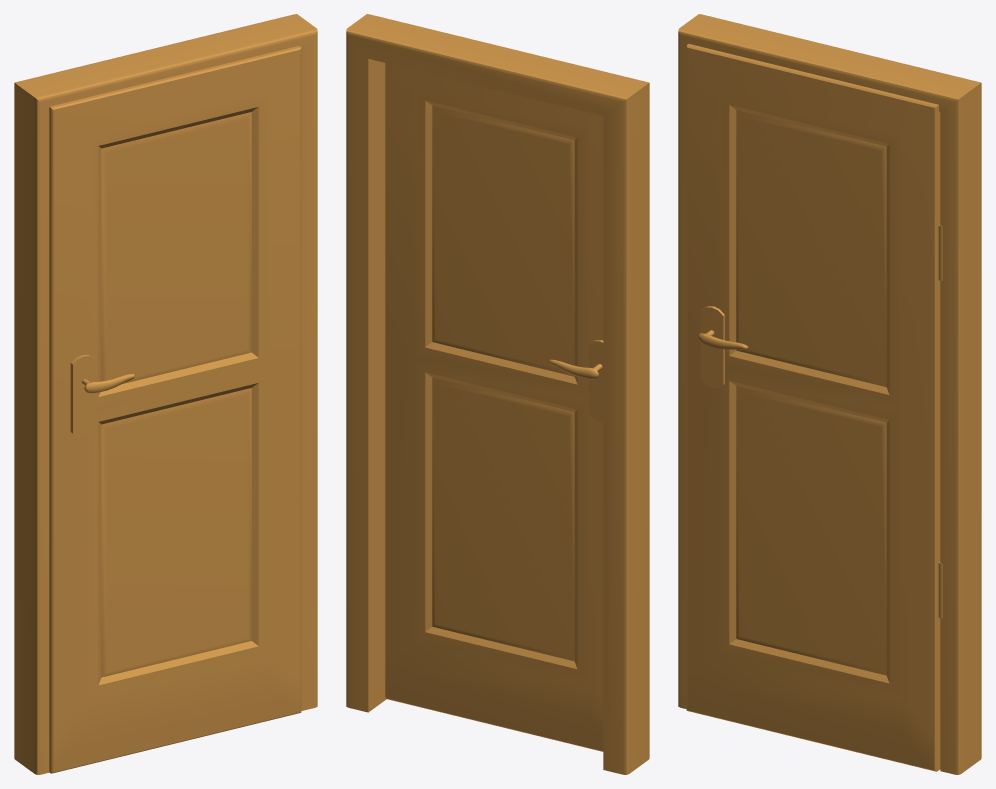
The model's file is Door_01.fbx.
3 renders of one model, left to right at view 1: azimuth 30°, elevation 25°; view 2: azimuth 150°, elevation 25°; view 3: azimuth 330°, elevation 25°, orthographic.
Parts seen in each view (by area): view 1: DoorWing, Door_01, DoorHandle; view 2: DoorWing, Door_01, DoorHandle; view 3: DoorWing, Door_01.
Boxes of the visible parts, x1,y1,x2,y2 form: DoorWing: (49,46,303,773); Door_01: (14,14,317,774); DoorHandle: (82,373,135,393); DoorWing: (385,63,603,751); Door_01: (346,14,649,774); DoorHandle: (548,359,602,379); DoorWing: (686,44,942,771); Door_01: (678,14,981,774).
Size of the model in its own units: 107 by 245 by 25.52.
